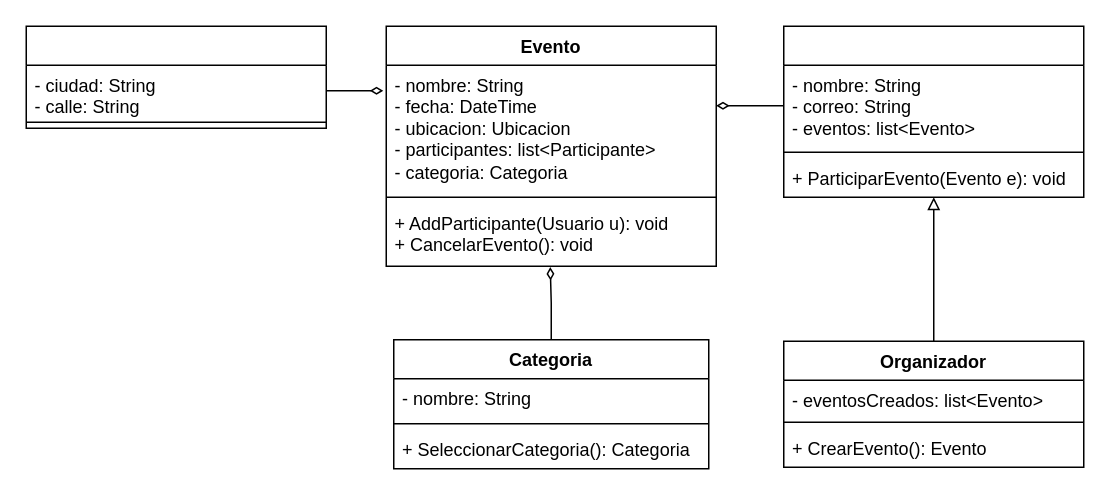
Image size: 1110x500. Some labels were removed from this diagram. Here are the shapes that lost their labels. From the top down, the box of each, then its label:
(25, 25, 326, 128): Ubicacion
(782, 25, 1084, 197): Usuario
